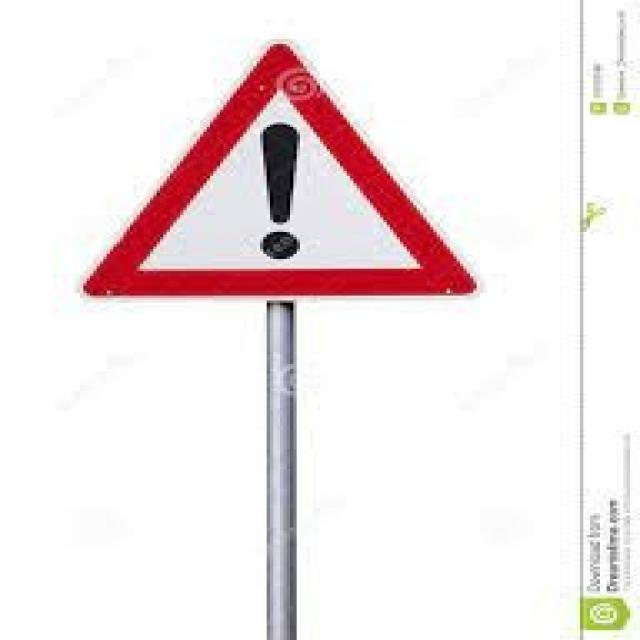warning: (67, 34, 487, 310)
